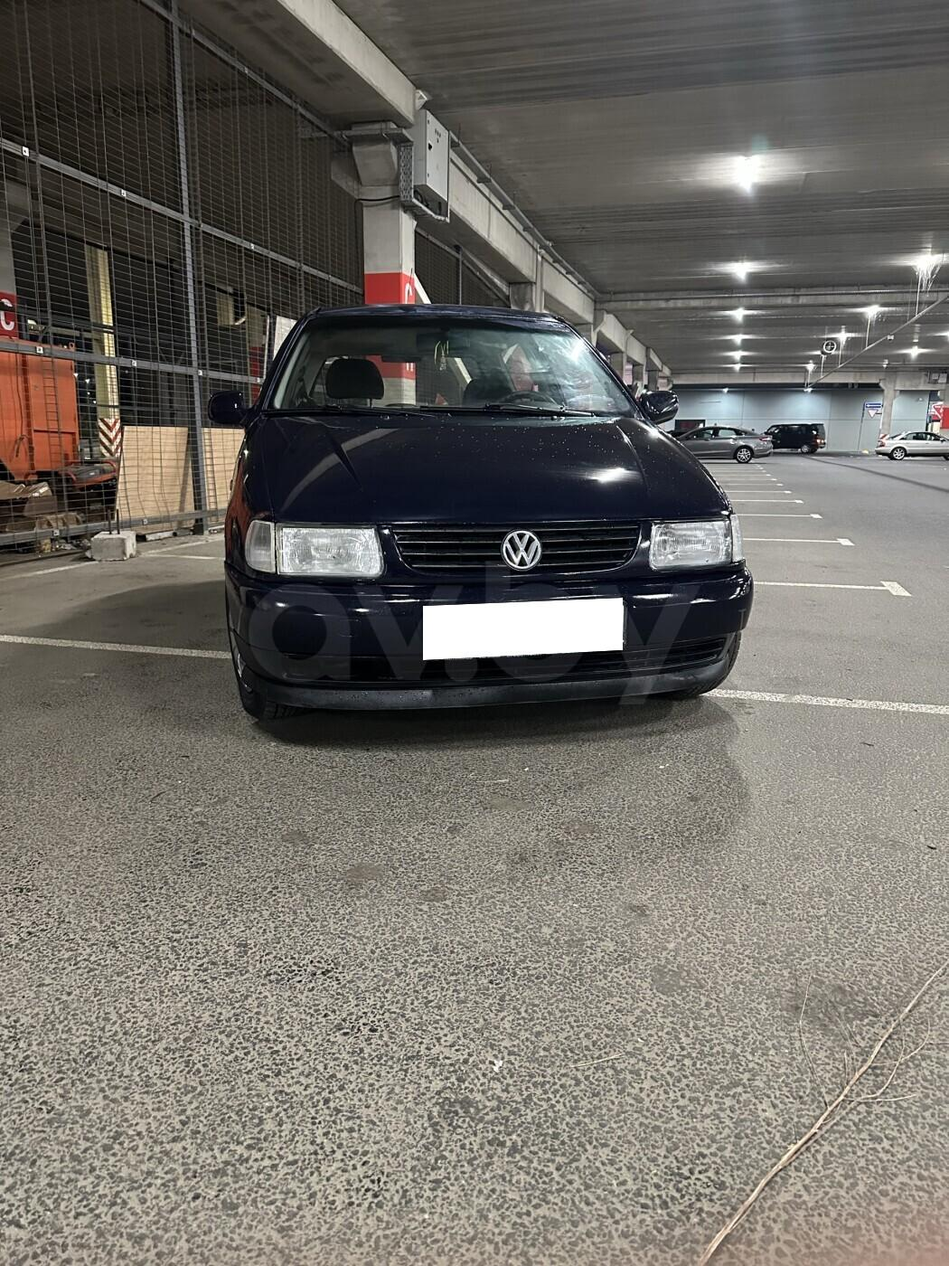Polo_1994-2002: (191, 277, 759, 785)
